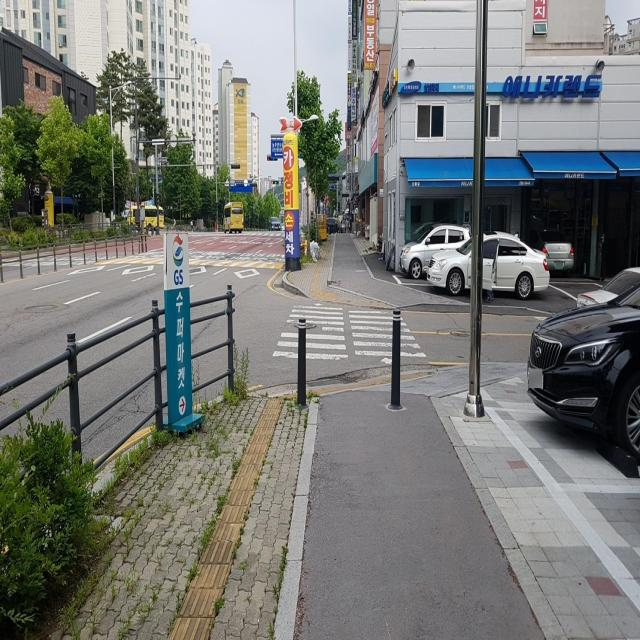횡단보도: (272, 302, 428, 365)
